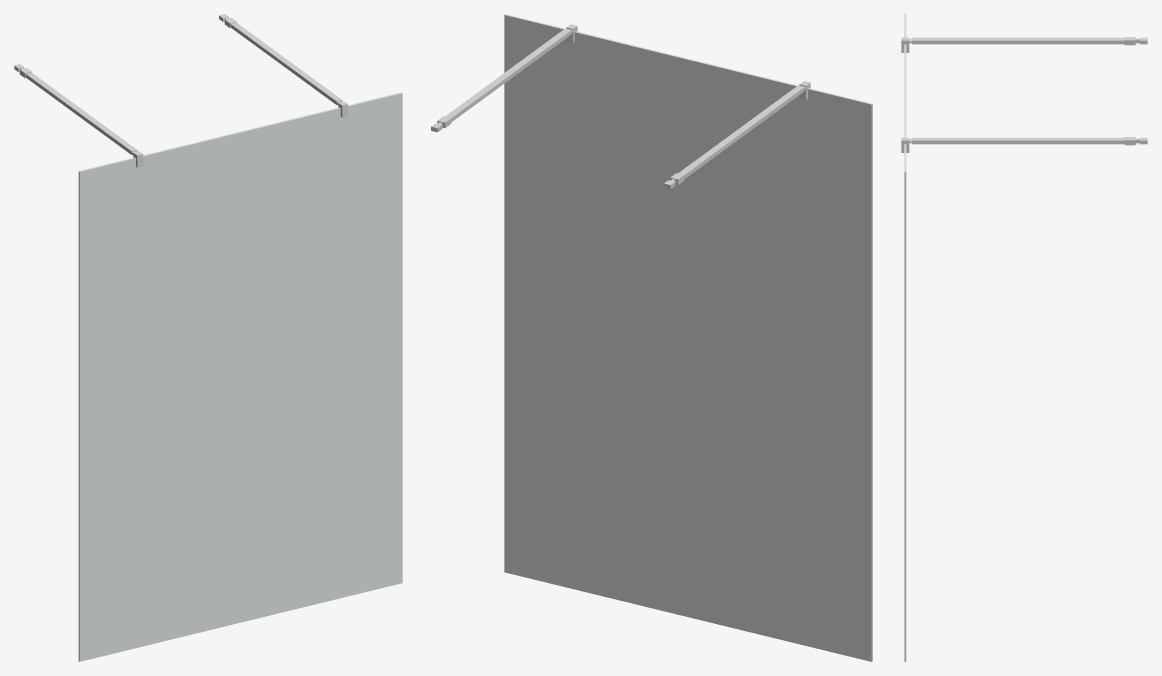
Rendered from AEC_49168.glb.
The picture shows the model from 3 angles, left to right: view 1: azimuth 30°, elevation 25°; view 2: azimuth 150°, elevation 25°; view 3: azimuth 270°, elevation 25°; orthographic projection. The views are drawn at different scales.
Visible parts, largest first — view 1: 0; view 2: 0; view 3: 0.
Part boxes in pixels (x1,y1,x2,y2): 0: [14, 14, 402, 661]; 0: [431, 14, 872, 661]; 0: [901, 14, 1147, 661].
Size of the model in its own units: 1.38 by 2.02 by 0.9111.
Materials: 1 (1 with a texture image).
